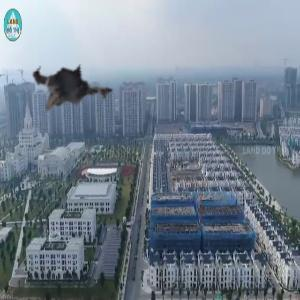drone: (16, 31, 121, 136)
